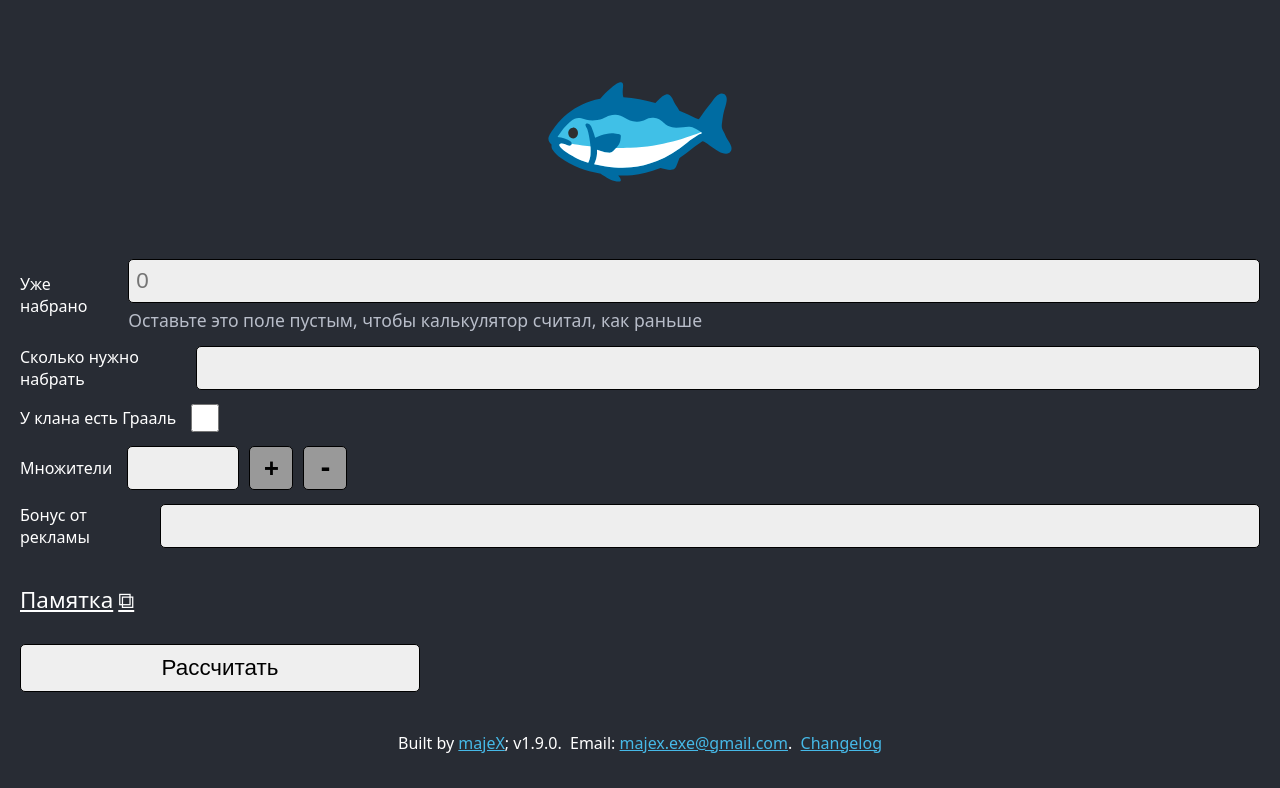
main calculator flow
# Input current and target points
Step 1. Type "1000" into the number field labelled "Уже набрано" → (694,281), box [128,259,1260,303]
Step 2. Type "200000" into the number field labelled "Сколько нужно набрать" → (728,368), box [196,346,1260,390]
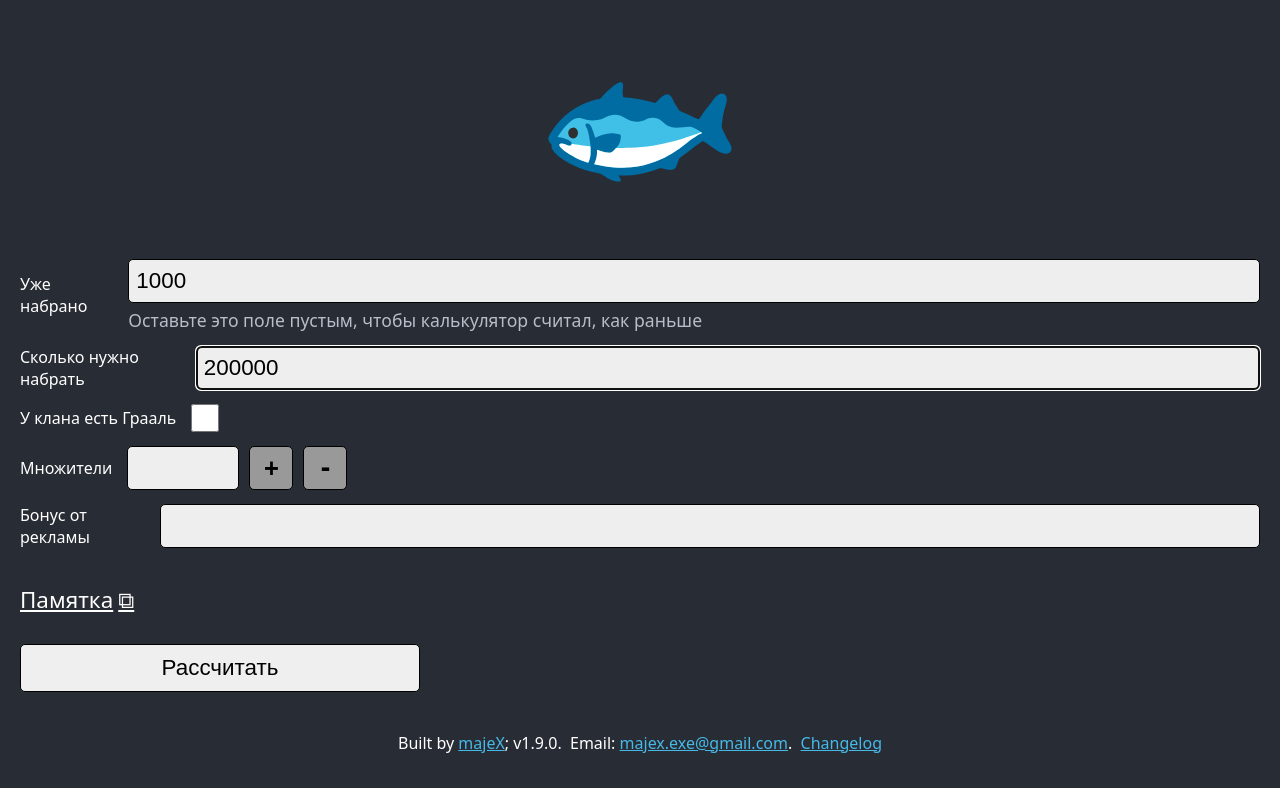
# Input multipliers
Step 3. Type "10" into the number field named "Множитель 1" → (183,468), box [127,446,239,490]
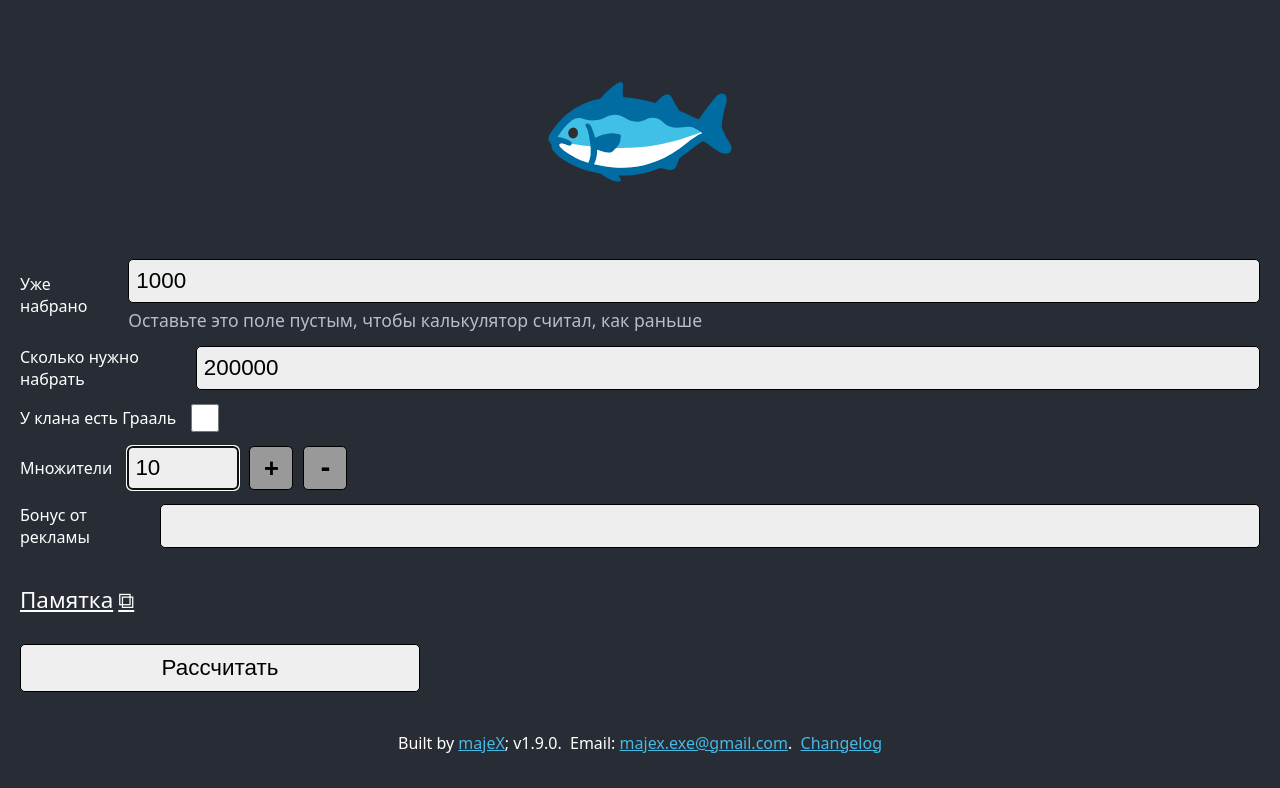
# Add second multiplier
Step 4. Click the button "+" → (271,468), box [249,446,293,490]
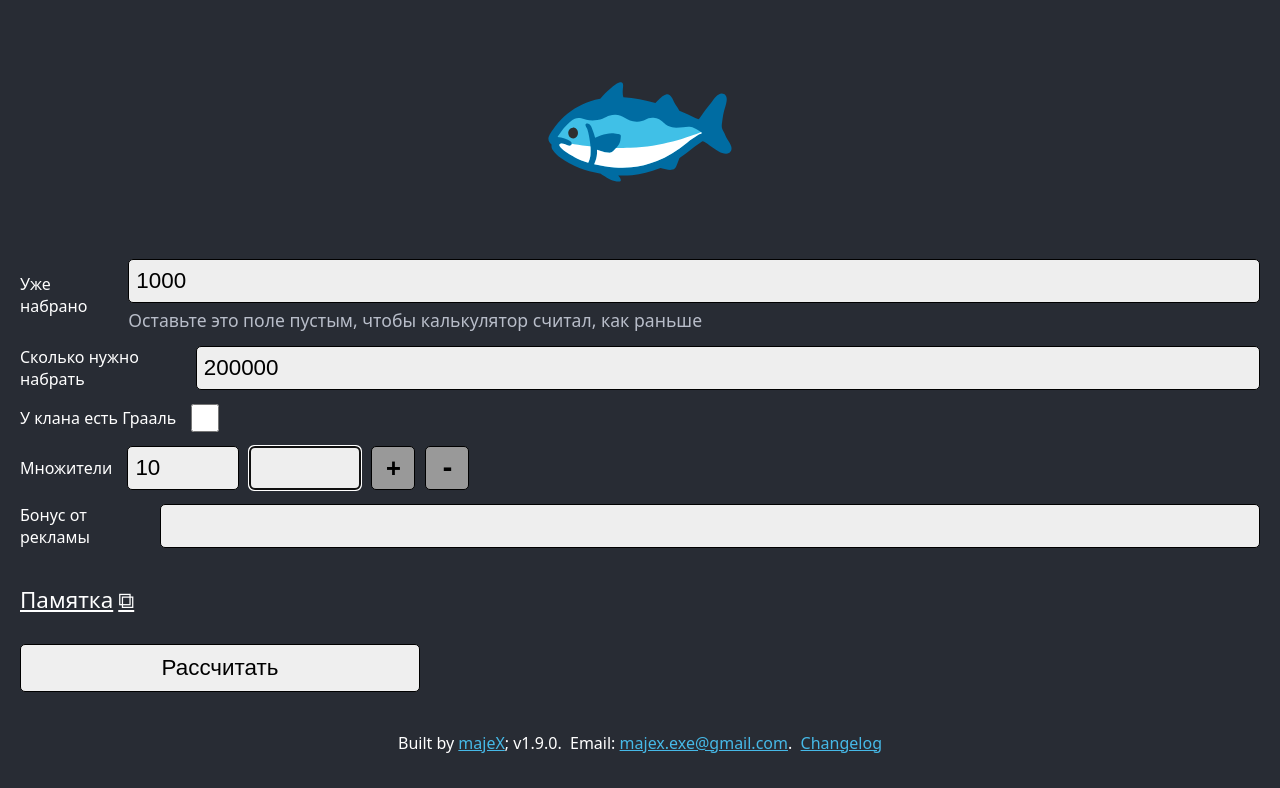
Step 5. Type "20" into the number field named "Множитель 2" → (305,468), box [249,446,361,490]
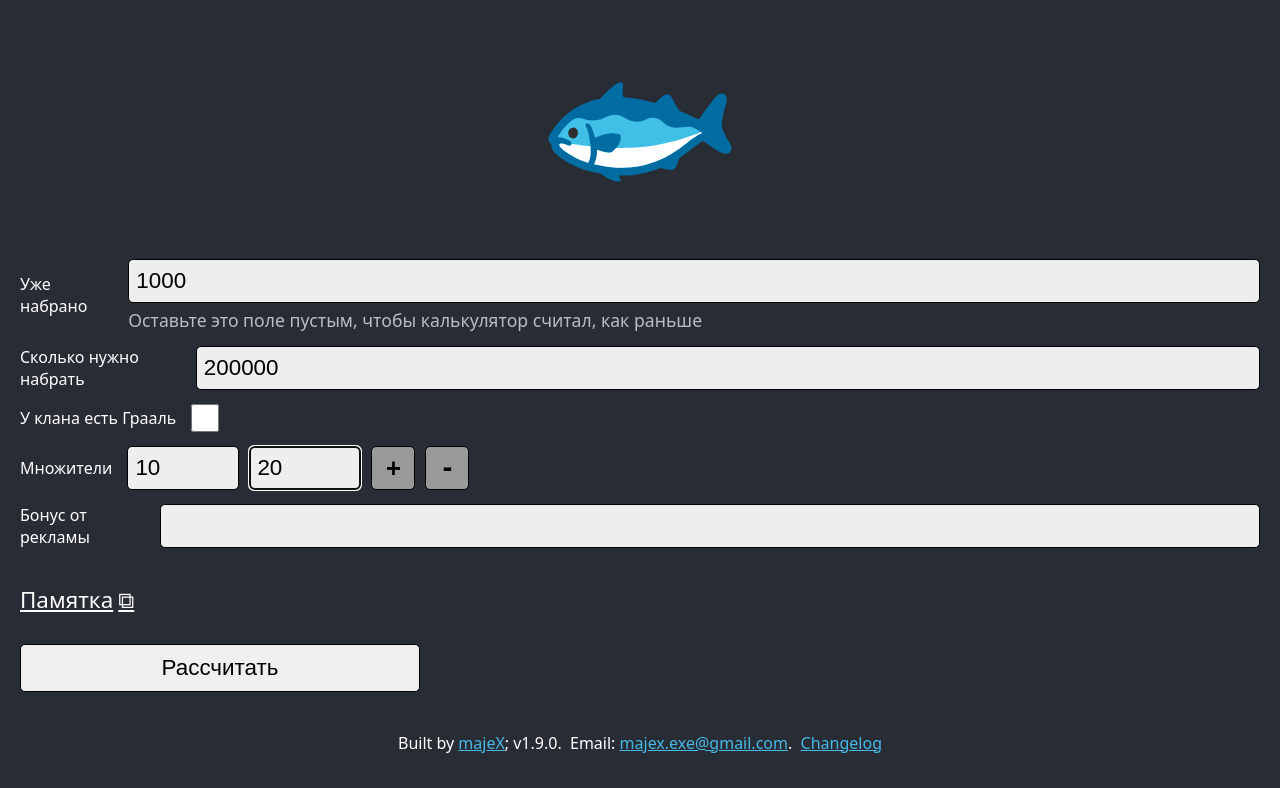
# Input ad bonus
Step 6. Type "1.5" into the number field labelled "Бонус от рекламы" → (710,526), box [160,504,1260,548]
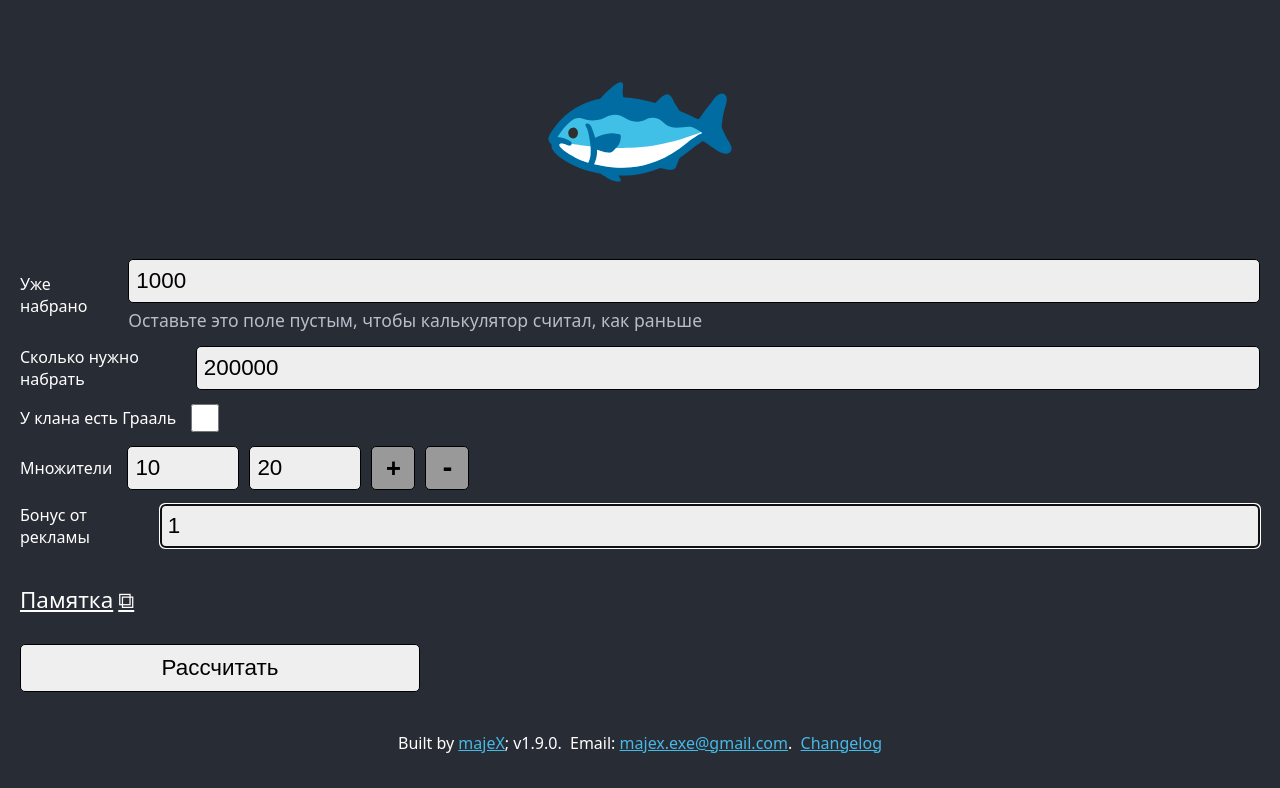
# Click calculate
Step 7. Click the button "Рассчитать" → (220,668), box [20,644,420,692]
(page scrolled)
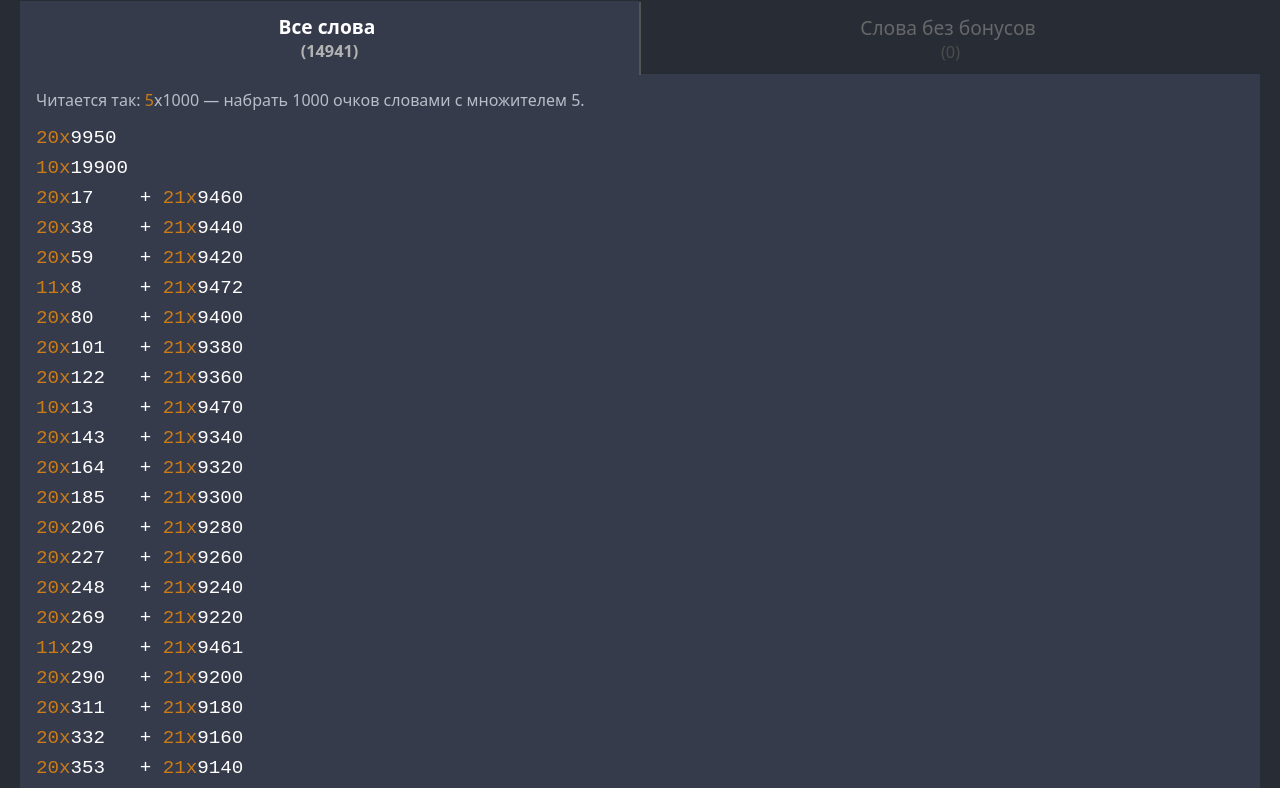
Check: the text "20x" next to "9950" is shown, box [36,128,59,150]
